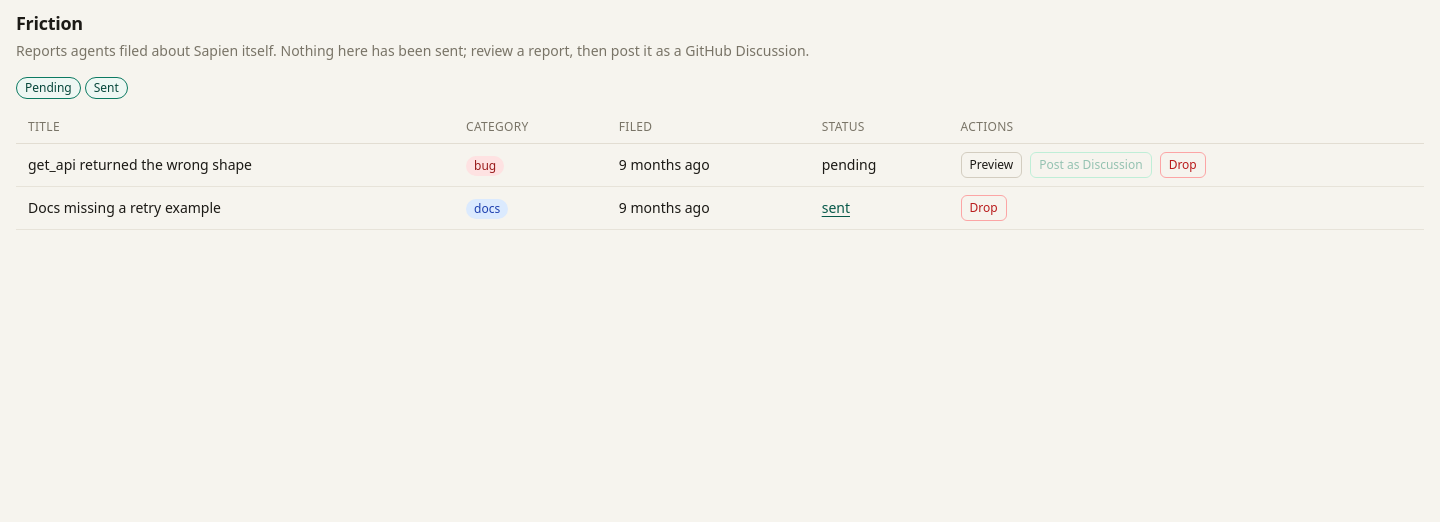
Test case: FrictionPage › drops a report
The image size is (1440, 522).
What coordinates should you click on to do the following:
click the text "get_api returned the wrong shape"
I would click on:
 (235, 165)
Its box is [16,144,454,186].
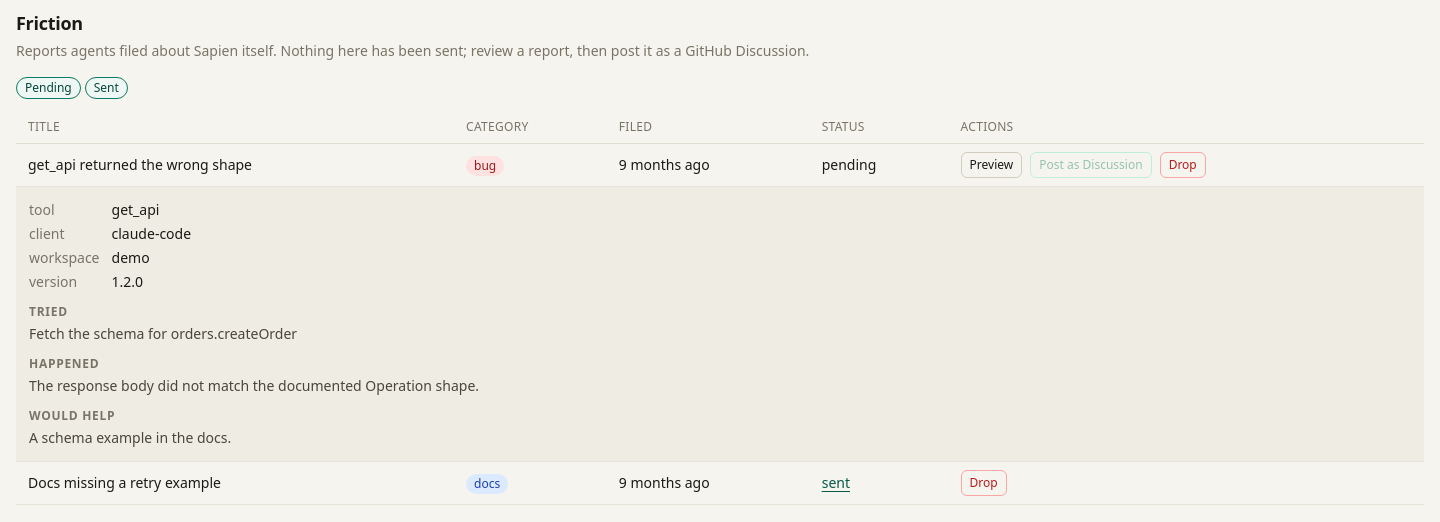
What coordinates should you click on to do the following:
click the button "Drop" in the row of "get_api returned the wrong shape"
I would click on:
 (1183, 165)
Its box is [1160,152,1206,178].
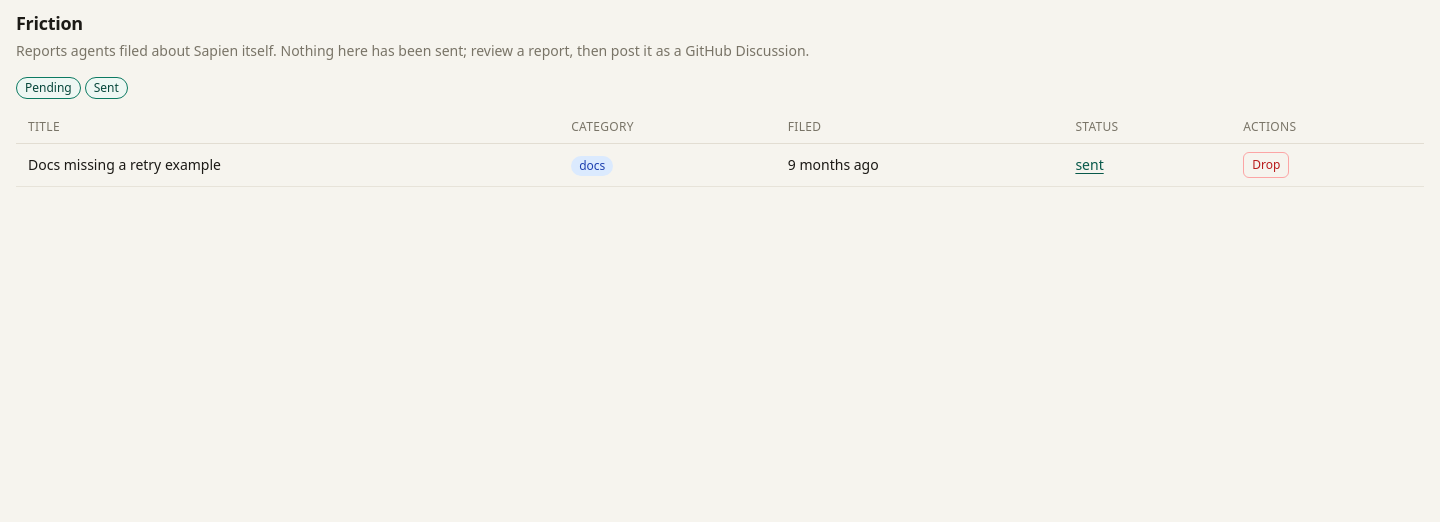
Expected: the text "get_api returned the wrong shape" is gone
